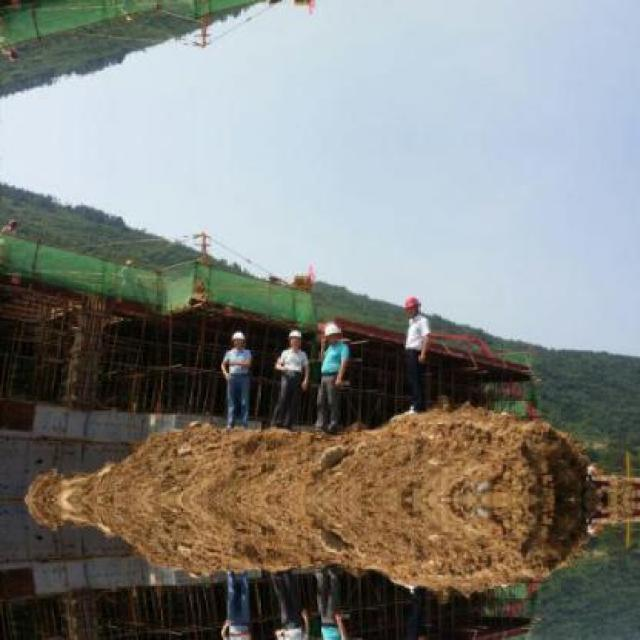helmet: (317, 319, 345, 341), (228, 326, 248, 346), (283, 325, 305, 341), (405, 296, 423, 312)
